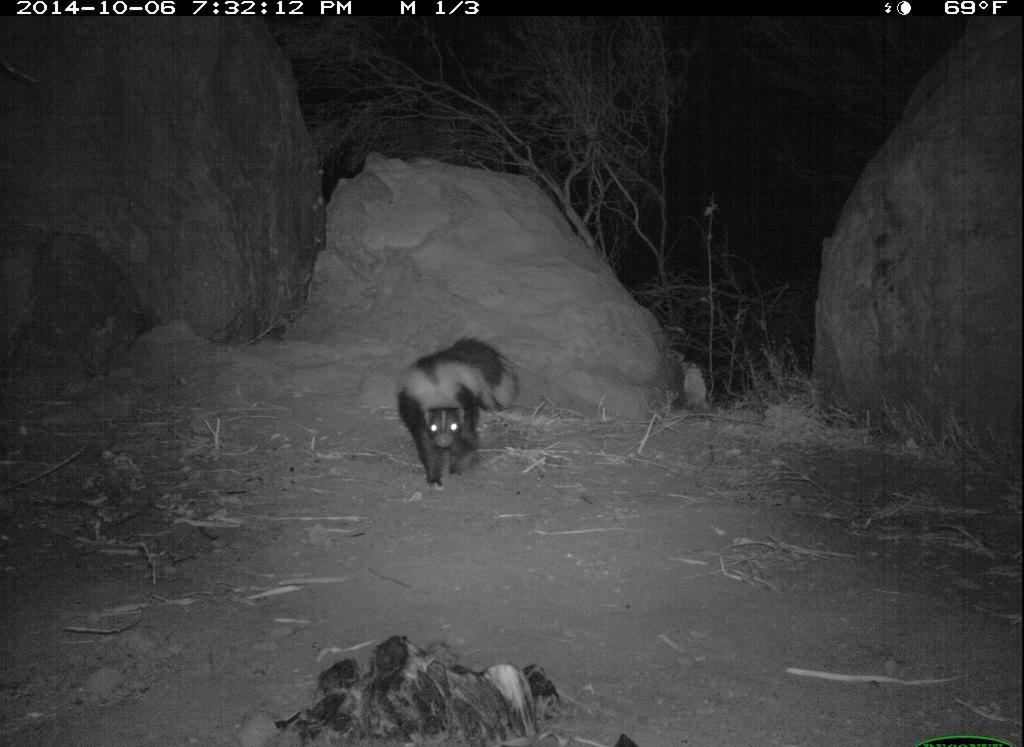skunk: (386, 308, 534, 493)
